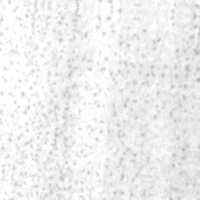pitted_surface: (0, 1, 199, 199)
